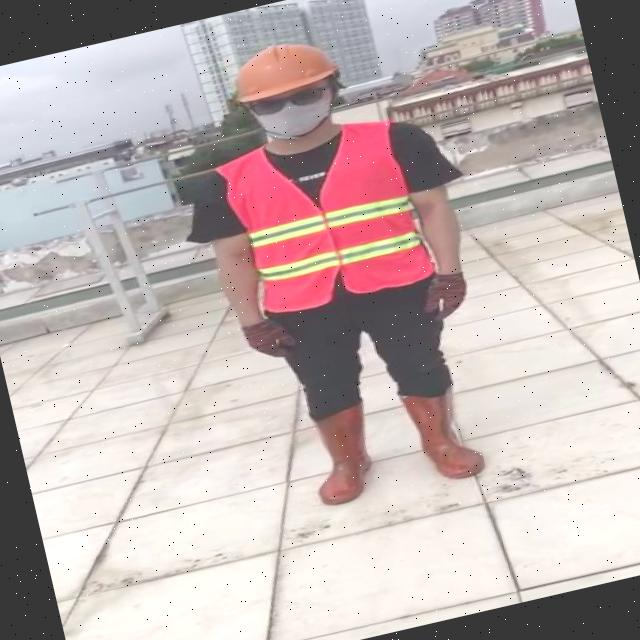boots: (400, 377, 487, 488), (302, 402, 379, 509)
